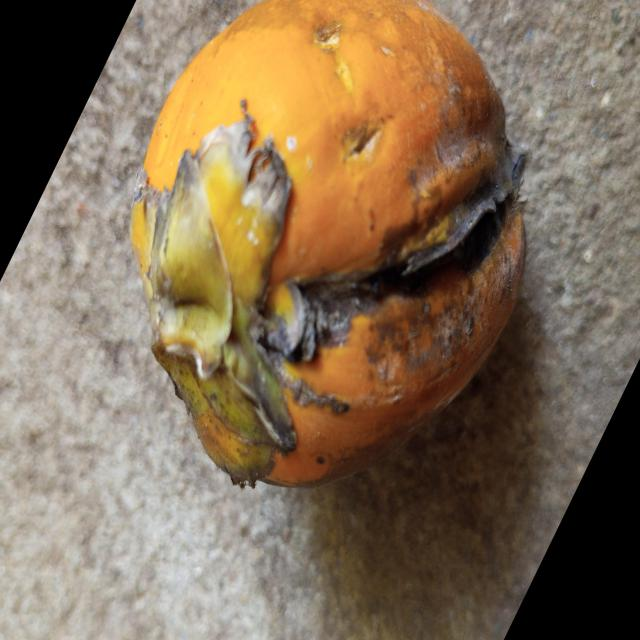damaged: (128, 0, 528, 490)
